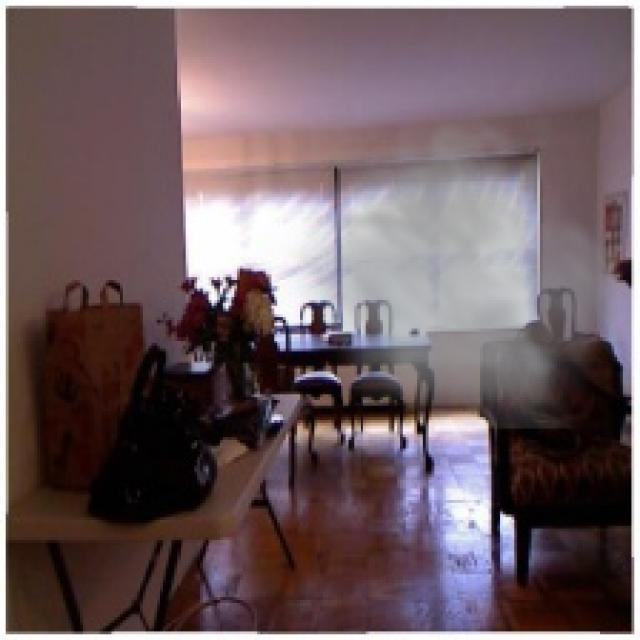Smoke: (280, 82, 637, 432)
